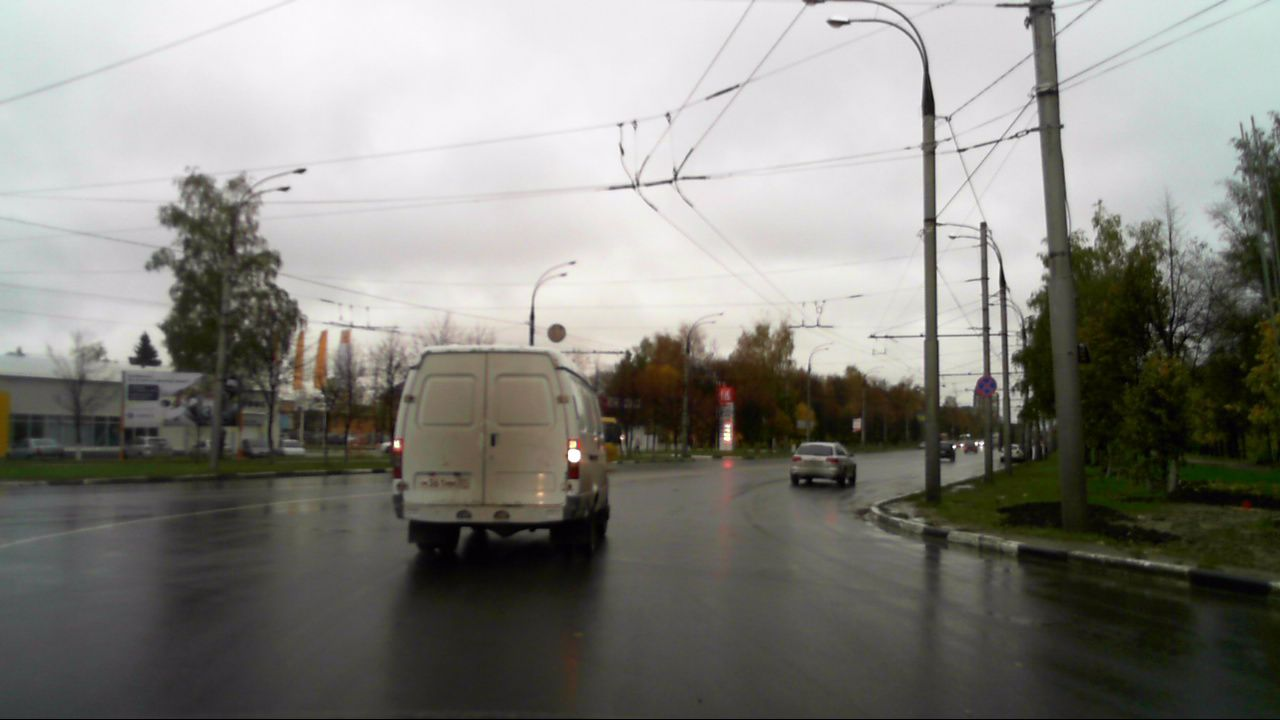No Parking: (975, 376, 998, 396)
